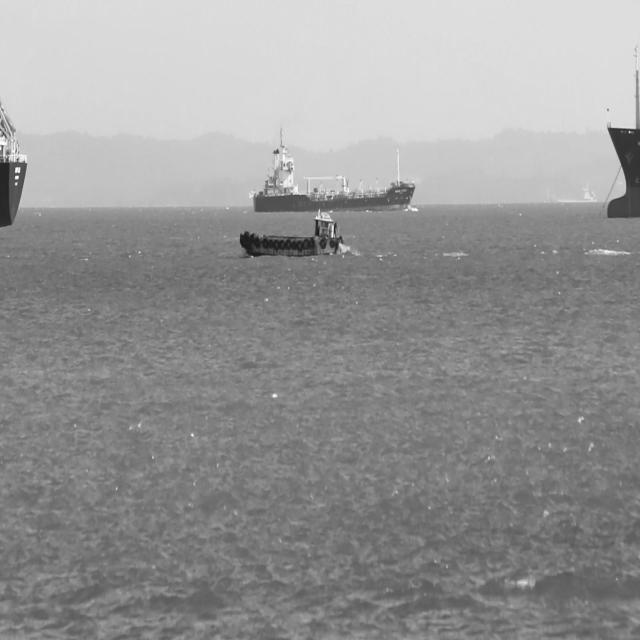ship: (252, 121, 416, 211), (606, 44, 639, 219), (239, 209, 345, 259), (0, 100, 27, 227)
